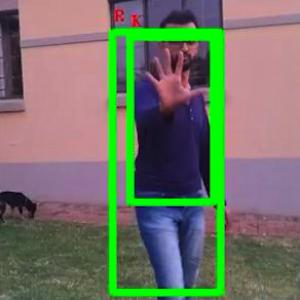follow_hand: (138, 41, 210, 112)
